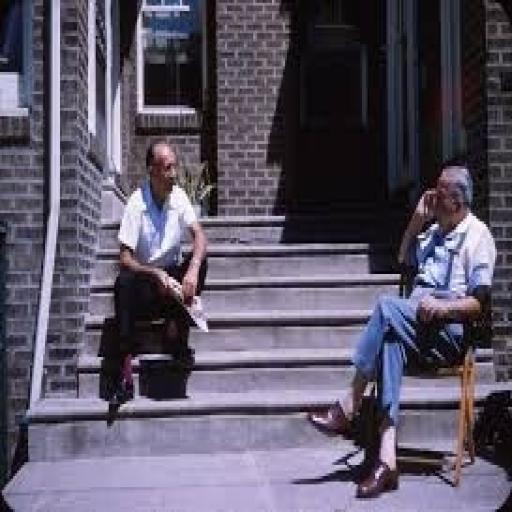sitting: (308, 155, 497, 498), (101, 136, 210, 406)
